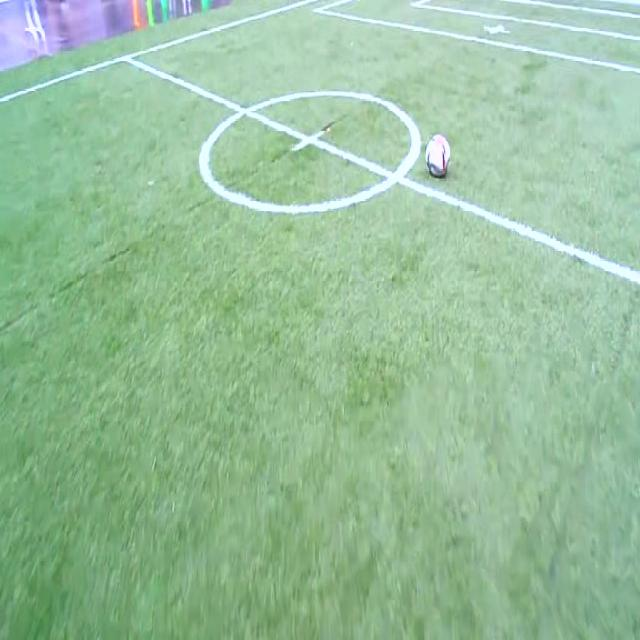ball: (426, 134, 450, 176)
